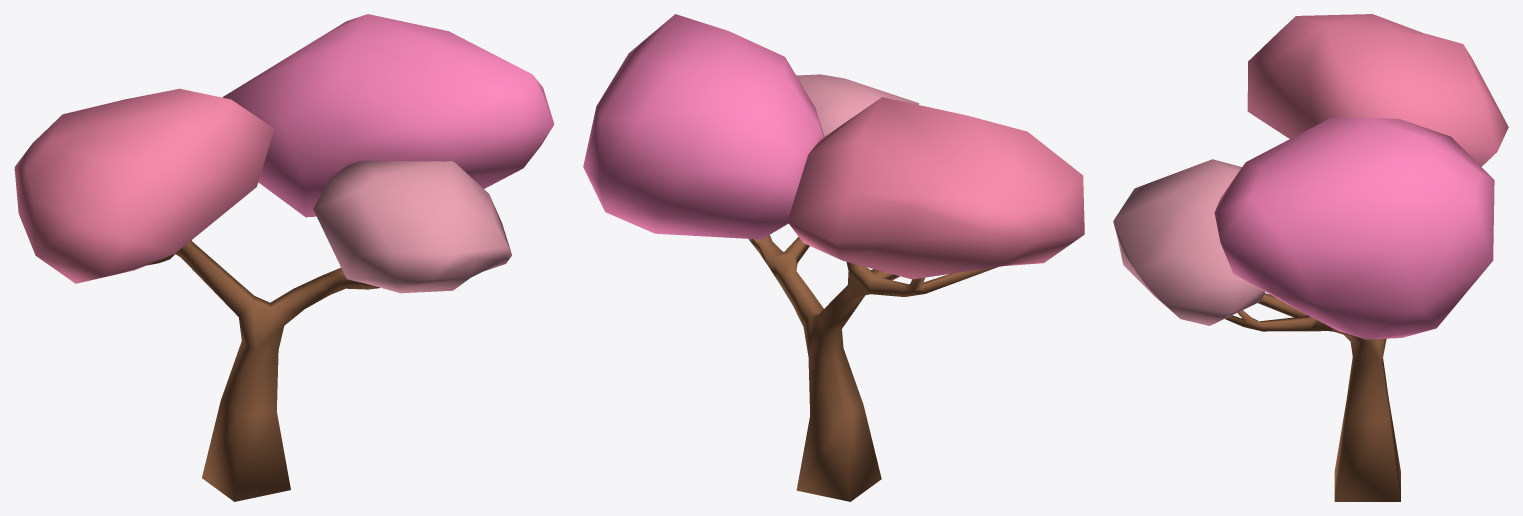
File: Oak_Pink_1.fbx
3 views of the same model, side by side, from view 1: azimuth 30°, elevation 25°; view 2: azimuth 150°, elevation 25°; view 3: azimuth 270°, elevation 25° (orthographic). The views are drawn at different scales.
Visible parts, largest first — view 1: Foliage32, Foliage31, Foliage33, Trunk_11; view 2: Foliage31, Foliage32, Trunk_11, Foliage33; view 3: Foliage32, Foliage31, Foliage33, Trunk_11.
Boxes of the visible parts, x1,y1,x2,y2 form: Foliage32: (222, 14, 554, 217); Foliage31: (14, 88, 274, 283); Foliage33: (313, 160, 511, 293); Trunk_11: (146, 240, 379, 501); Foliage31: (787, 97, 1084, 279); Foliage32: (583, 14, 824, 239); Trunk_11: (748, 235, 997, 501); Foliage33: (796, 74, 919, 136); Foliage32: (1214, 117, 1494, 339); Foliage31: (1247, 14, 1508, 166); Foliage33: (1113, 159, 1264, 325); Trunk_11: (1225, 293, 1400, 501).
Bounding box in the file's own units: 760 × 615 × 519.
